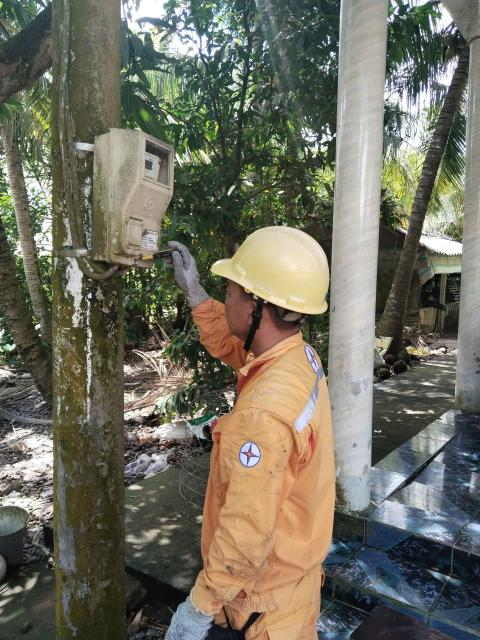gloves: (159, 239, 215, 315), (160, 592, 205, 640)
helmet: (217, 216, 354, 330)
